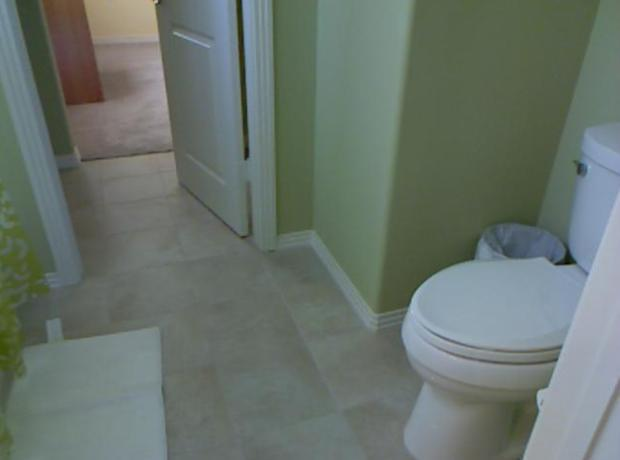Bote de Basura: (473, 215, 569, 371)
Sanitario: (391, 117, 617, 455)
